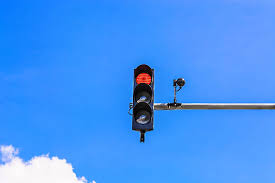traffic light: (120, 54, 165, 153)
